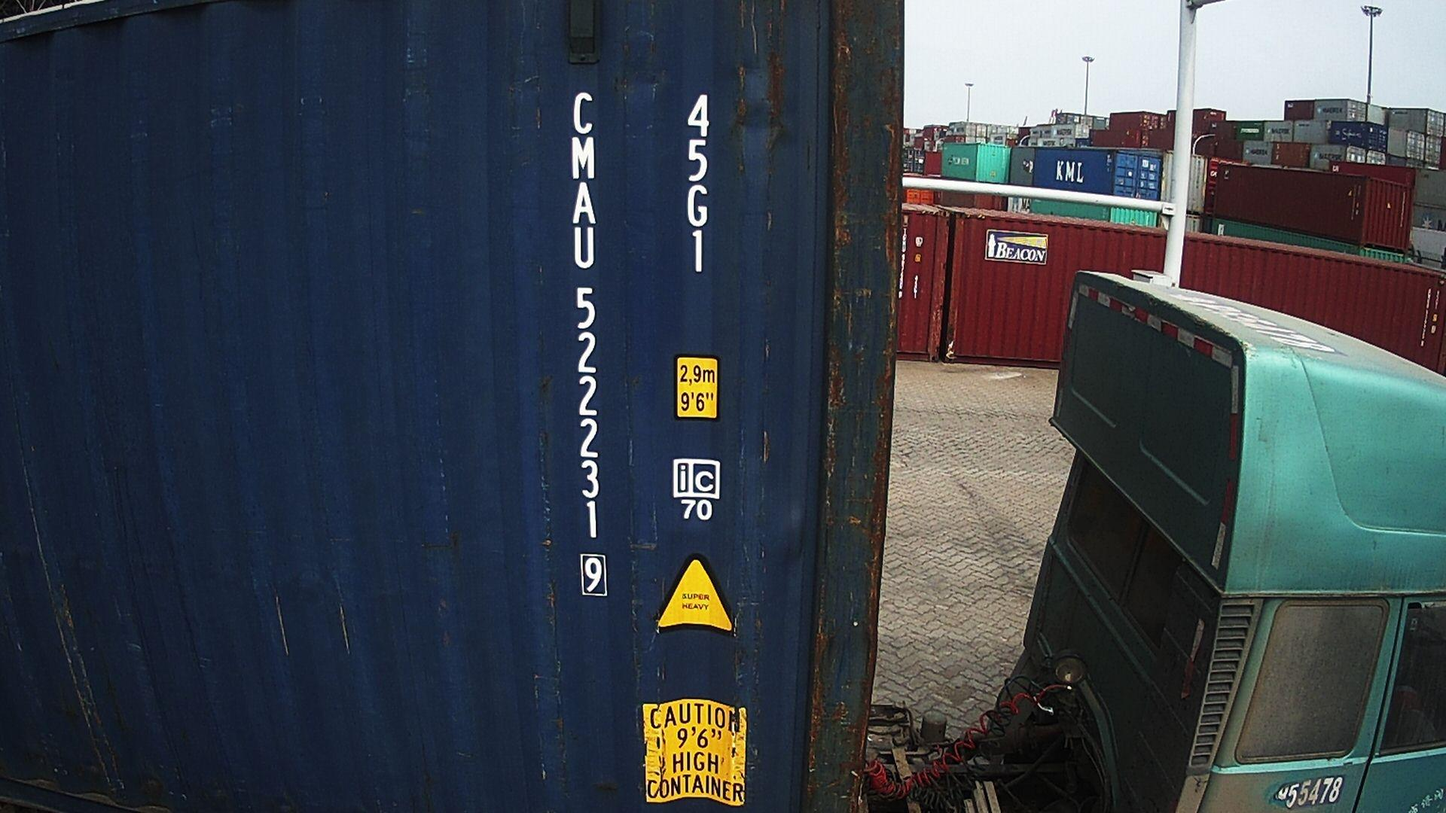container-numbers: (566, 90, 610, 603), (680, 89, 717, 279)
